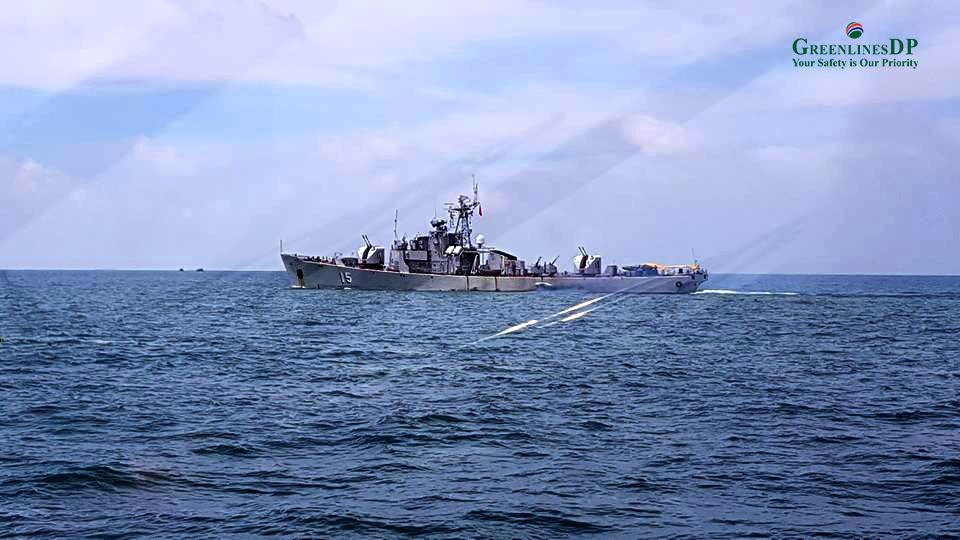MIL_Ship: (275, 175, 709, 297)
